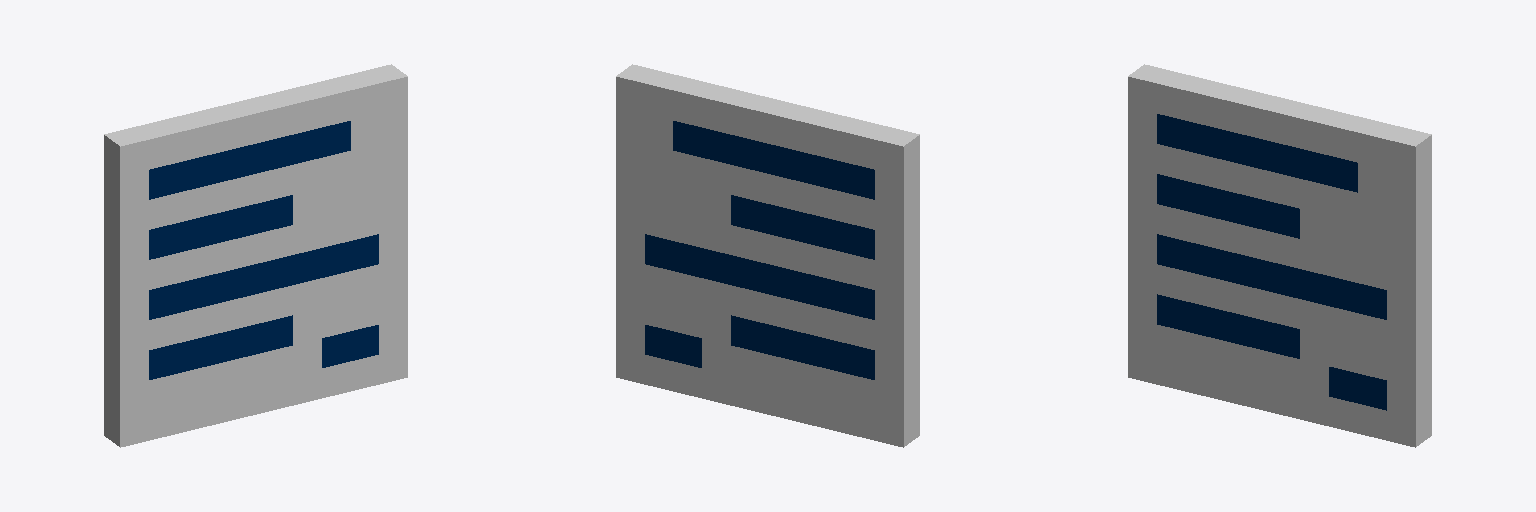
3 renders of one model, left to right at view 1: azimuth 30°, elevation 25°; view 2: azimuth 150°, elevation 25°; view 3: azimuth 330°, elevation 25°, orthographic.
Visible parts, largest first — view 1: Annoucment_33; view 2: Annoucment_33; view 3: Annoucment_33.
Boxes of the visible parts, box(x1,y1,x2,y2) form: Annoucment_33: box(104, 64, 407, 447); Annoucment_33: box(616, 64, 919, 447); Annoucment_33: box(1128, 64, 1431, 447).
Size of the model in its own units: 1 by 1 by 0.1.
Materials: 1 (1 with a texture image).